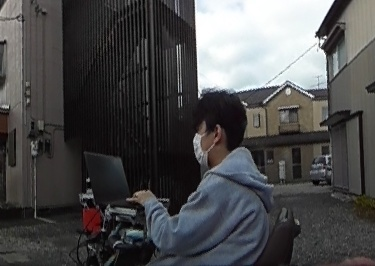person: (145, 89, 270, 266)
